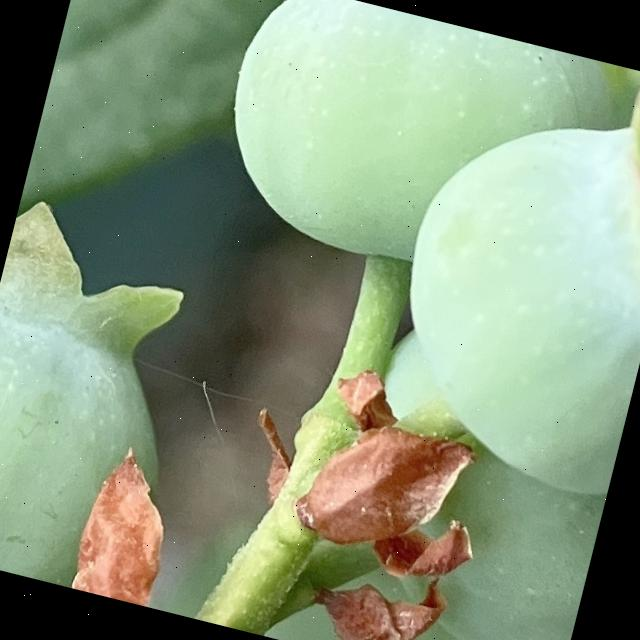Blueberries: (358, 25, 640, 500), (196, 0, 629, 306), (0, 193, 213, 601)
